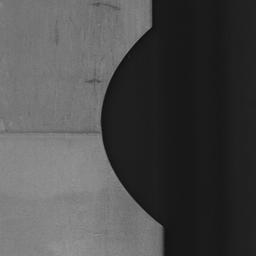Crescent gap: (101, 29, 160, 224)
